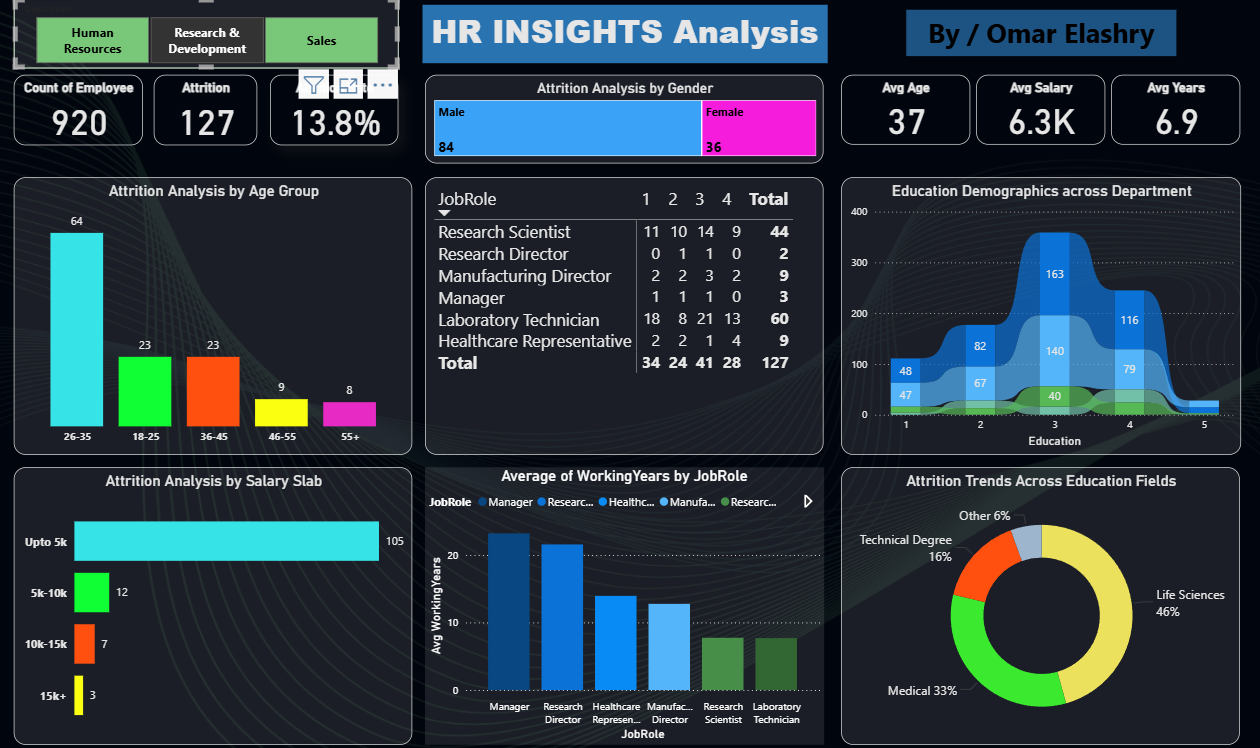

This screenshot's page, from the dashboard's own definition file:
{"tool":"powerbi","page":{"name":"Page 1","canvas":[1500,900],"ordinal":0},"visuals":[{"type":"card","title":"Count of Employee","fields":{"Values":["CountNonNull(HR_Analytics.EmpID)"]},"box":[16.8,93.6,153.7,83.8],"z":0},{"type":"card","title":"Attrition","fields":{"Values":["Sum(HR_Analytics.AttritionCount)"]},"box":[183,93.6,122.9,83.8],"z":1000},{"type":"card","title":"Attrition Rate","fields":{"Values":["HR_Analytics.AttritionRate"]},"box":[321.3,93.6,153,83.8],"z":2000},{"type":"card","title":"Avg Age","fields":{"Values":["Avg(HR_Analytics.Age)"]},"box":[1001.5,93.8,153.3,83.3],"z":3000},{"type":"card","title":"Avg Salary","fields":{"Values":["Avg(HR_Analytics.MonthlyIncome)"]},"box":[1162.2,93.8,153.3,83.3],"z":4000},{"type":"card","title":"Avg Years","fields":{"Values":["Avg(HR_Analytics.YearsAtCompany)"]},"box":[1322.9,93.8,153.3,83.3],"z":5000},{"type":"donutChart","title":"Attrition Trends Across Education Fields","fields":{"Category":["HR_Analytics.EducationField"],"Y":["Sum(HR_Analytics.AttritionCount)"]},"box":[1001.5,561,474.7,330.4],"z":6000},{"type":"columnChart","title":"Attrition Analysis by Age Group","fields":{"Category":["HR_Analytics.AgeGroup"],"Y":["Sum(HR_Analytics.AttritionCount)"]},"box":[16.4,215.8,474.7,330.4],"z":7000},{"type":"pivotTable","fields":{"Rows":["HR_Analytics.JobRole"],"Columns":["HR_Analytics.JobSatisfaction"],"Values":["Sum(HR_Analytics.AttritionCount)"]},"box":[506,215.8,474.7,330.4],"z":8000},{"type":"barChart","title":"Attrition Analysis by Salary Slab","fields":{"Category":["HR_Analytics.SalarySlab"],"Y":["Sum(HR_Analytics.AttritionCount)"]},"box":[16.4,561,474.7,330.4],"z":9000},{"type":"treemap","title":"Attrition Analysis by Gender","fields":{"Group":["HR_Analytics.Gender"],"Values":["Sum(HR_Analytics.AttritionCount)"]},"box":[506,93.8,474.7,105.7],"z":10000},{"type":"slicer","fields":{"Values":["HR_Analytics.Department"]},"box":[16.4,3,458.3,83.3],"z":11000},{"type":"textbox","box":[503,10.4,482.1,69.9],"z":12000},{"type":"ribbonChart","title":"Education Demographics across Department ","fields":{"Y":["CountNonNull(HR_Analytics.Department)"],"Category":["HR_Analytics.Education"],"Series":["HR_Analytics.EducationField"]},"box":[1001.5,215.8,476.2,330.4],"z":13000},{"type":"columnChart","title":"Average of WorkingYears by JobRole","fields":{"Y":["Avg(HR_Analytics.TotalWorkingYears)"],"Category":["HR_Analytics.JobRole"],"Series":["HR_Analytics.JobRole"]},"box":[506,561,475,330],"z":14000},{"type":"textbox","box":[1078.9,16.4,321.4,55.1],"z":14001}]}

Visuals, with their boxes in screenshot pixels (x1, y1, x2, y2), scaled from the page's 1500x900 canvas onto the 1260x748 screenshot:
"Count of Employee" card: <bbox>14, 78, 143, 147</bbox>
"Attrition" card: <bbox>154, 78, 257, 147</bbox>
"Attrition Rate" card: <bbox>270, 78, 398, 147</bbox>
"Avg Age" card: <bbox>841, 78, 970, 147</bbox>
"Avg Salary" card: <bbox>976, 78, 1105, 147</bbox>
"Avg Years" card: <bbox>1111, 78, 1240, 147</bbox>
"Attrition Trends Across Education Fields" donutChart: <bbox>841, 466, 1240, 741</bbox>
"Attrition Analysis by Age Group" columnChart: <bbox>14, 179, 413, 454</bbox>
pivotTable - HR_Analytics.JobRole x HR_Analytics.JobSatisfaction: <bbox>425, 179, 824, 454</bbox>
"Attrition Analysis by Salary Slab" barChart: <bbox>14, 466, 413, 741</bbox>
"Attrition Analysis by Gender" treemap: <bbox>425, 78, 824, 166</bbox>
slicer - HR_Analytics.Department: <bbox>14, 2, 399, 72</bbox>
textbox: <bbox>423, 9, 827, 67</bbox>
"Education Demographics across Department " ribbonChart: <bbox>841, 179, 1241, 454</bbox>
"Average of WorkingYears by JobRole" columnChart: <bbox>425, 466, 824, 741</bbox>
textbox: <bbox>906, 14, 1176, 59</bbox>
